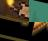torchT: (0, 0, 29, 22)
